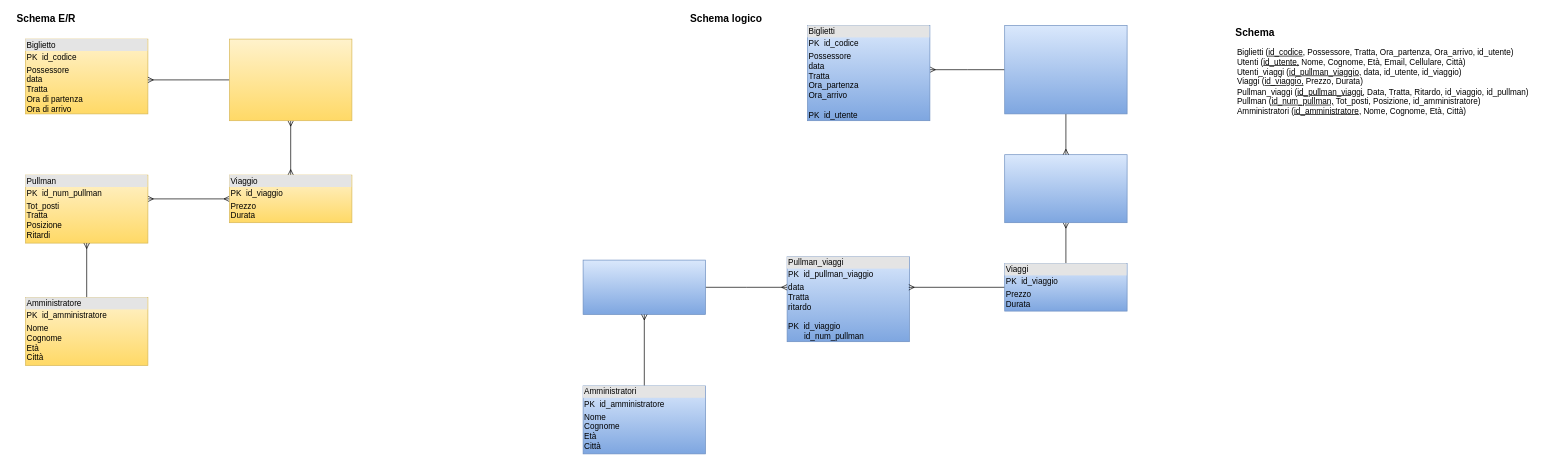
Image size: 1546x466. Some labels were removed from this diagram. Each missing label, with the centre of its shape:
Pullman PK id_num_pullman Tot_posti Posizione PK id_amministratore: the point at 644,286
Utente PK id_utente Nome Cognome Età Email Cellulare Città: the point at 290,79
Utenti PK id_utente Nome Cognome Età Email Cellulare Città: the point at 1065,69
Utenti_viaggi PK id_utente_viaggio data PK id_utente id_viaggio: the point at 1065,188
